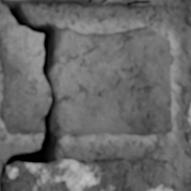brick: (1, 157, 172, 190), (1, 0, 131, 6), (128, 0, 171, 7), (187, 0, 190, 25), (186, 128, 190, 143), (188, 105, 190, 123)
broken_brick: (52, 26, 172, 137), (0, 24, 49, 134)
crack: (0, 2, 63, 188), (126, 0, 151, 6), (168, 92, 171, 109), (100, 0, 108, 2)
